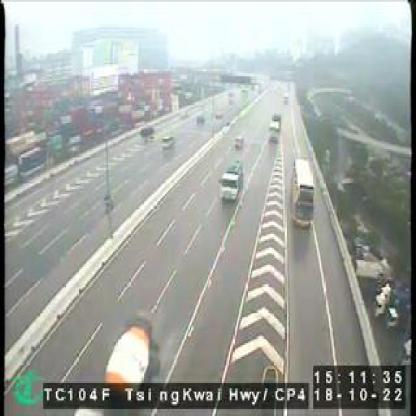Bus: (290, 158, 316, 230)
Car: (161, 133, 177, 149), (138, 124, 156, 136), (232, 134, 246, 149)
Truck: (220, 154, 246, 204), (269, 113, 282, 143)
